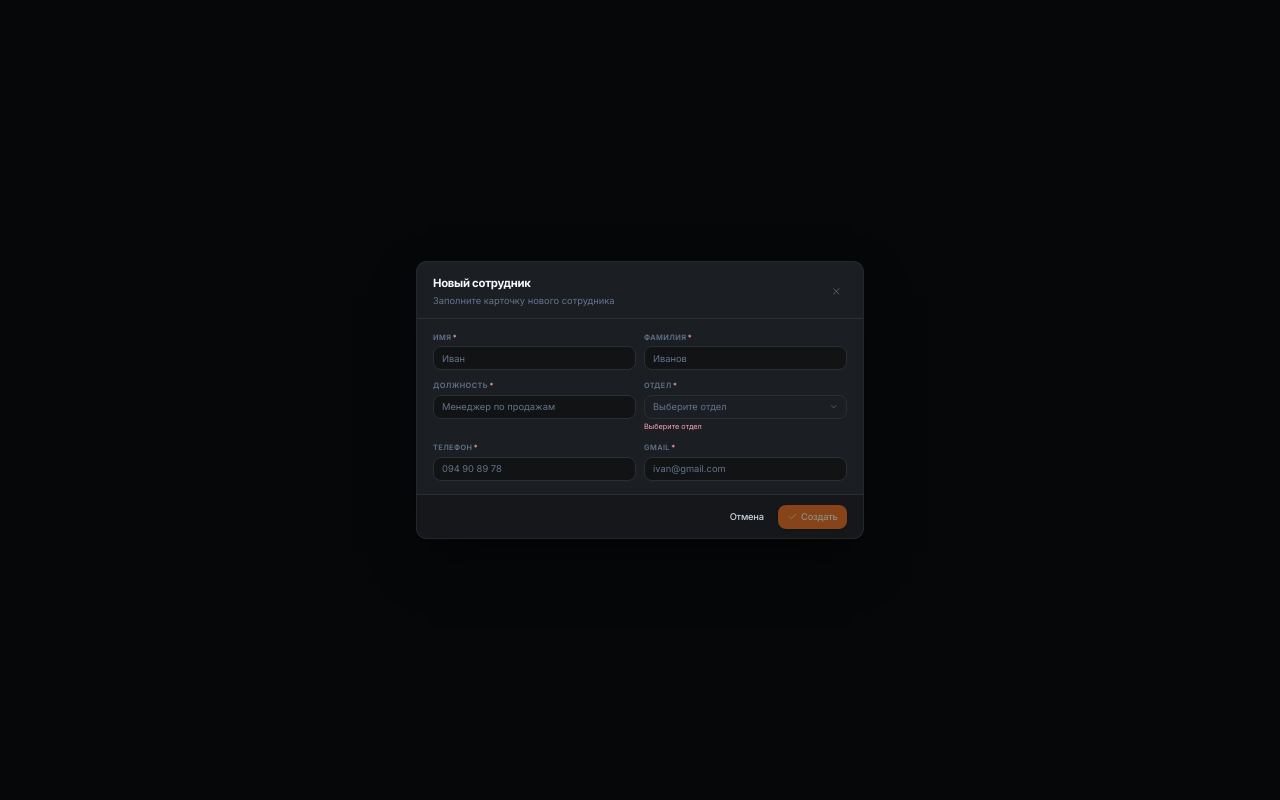
Test case: EmployeeFormModal — phone formatting › typing digits into phone shows formatted 0XX XX XX XX
// simulate typing 9 raw digits
Type "094908978" into the field labelled "Телефон*" at point(534, 469), box [433, 457, 636, 481]
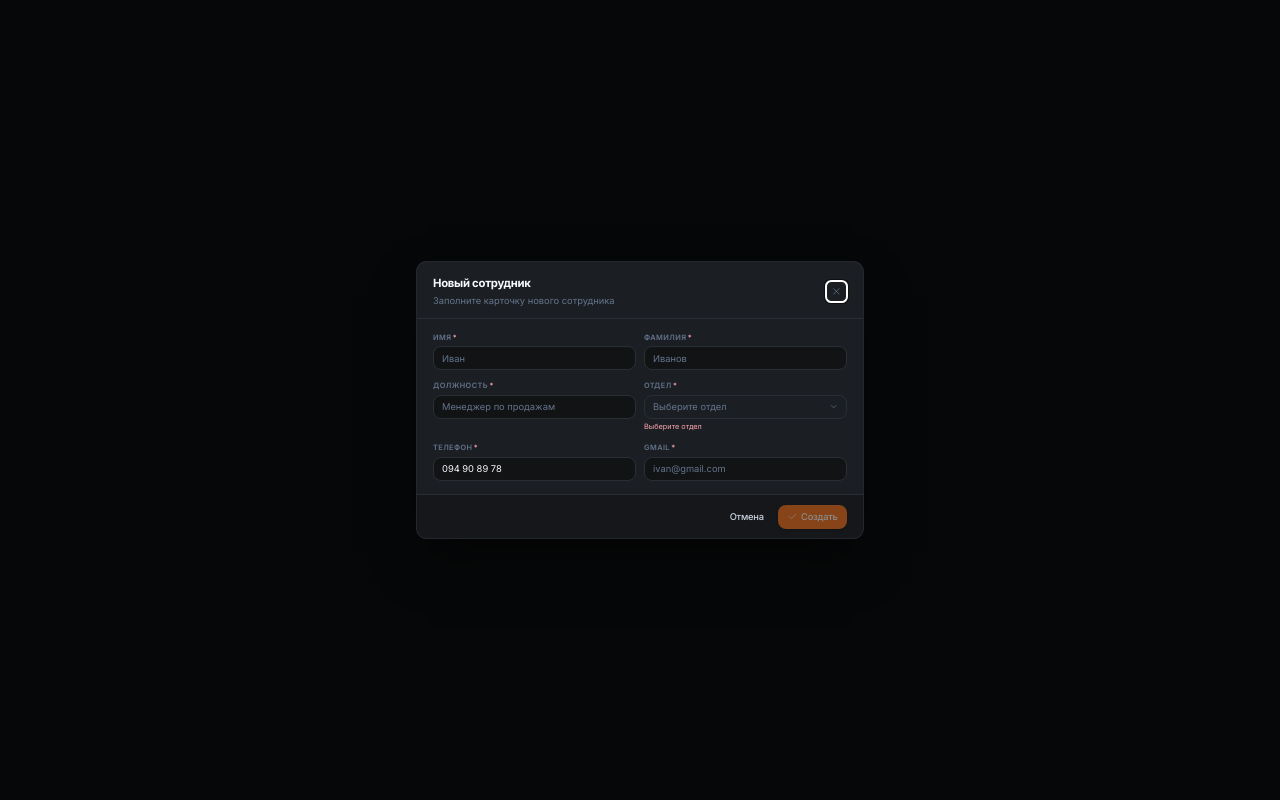
Check: the field labelled "Телефон*" holds "094 90 89 78", box [433, 457, 636, 481]
